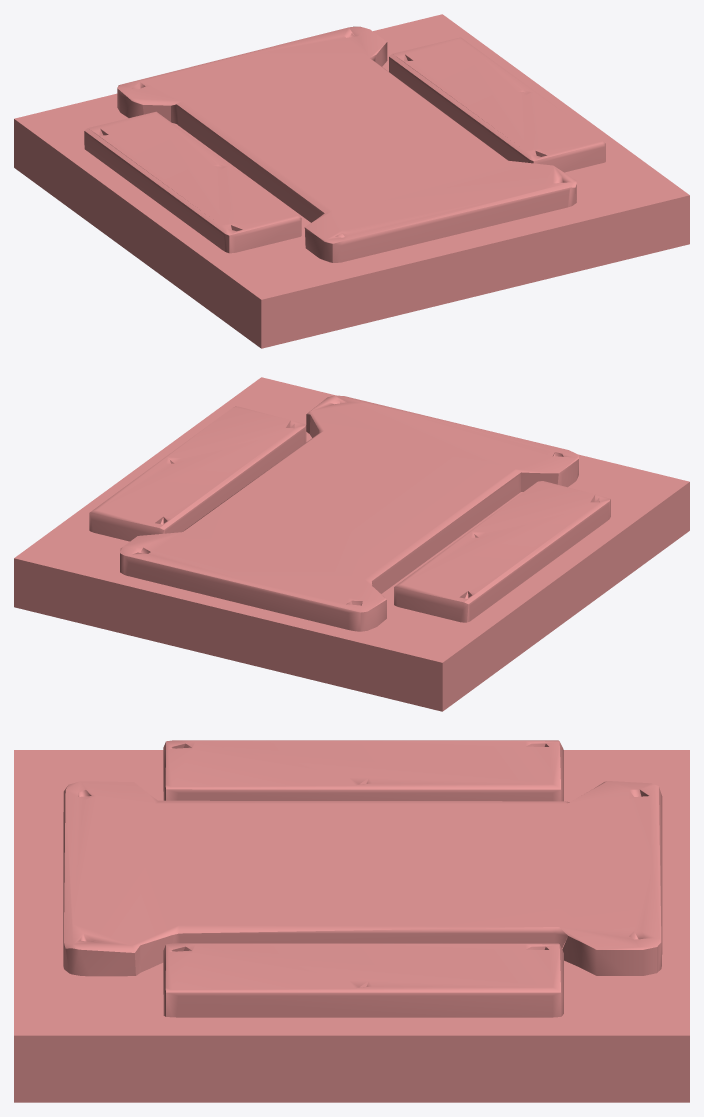
The model's file is ComplexWall_1x1_04_Final.fbx.
The picture shows the model from 3 angles, top to bottom: view 1: azimuth 30°, elevation 25°; view 2: azimuth 150°, elevation 25°; view 3: azimuth 270°, elevation 25°; orthographic projection. The views are drawn at different scales.
Visible parts, largest first — view 1: Final_ComplexWall_1x1_04; view 2: Final_ComplexWall_1x1_04; view 3: Final_ComplexWall_1x1_04.
Boxes of the visible parts, x1,y1,x2,y2 form: Final_ComplexWall_1x1_04: (14,14,689,348); Final_ComplexWall_1x1_04: (14,377,689,711); Final_ComplexWall_1x1_04: (14,740,689,1102).
Bounding box in the file's own units: 200 × 31.06 × 200.
